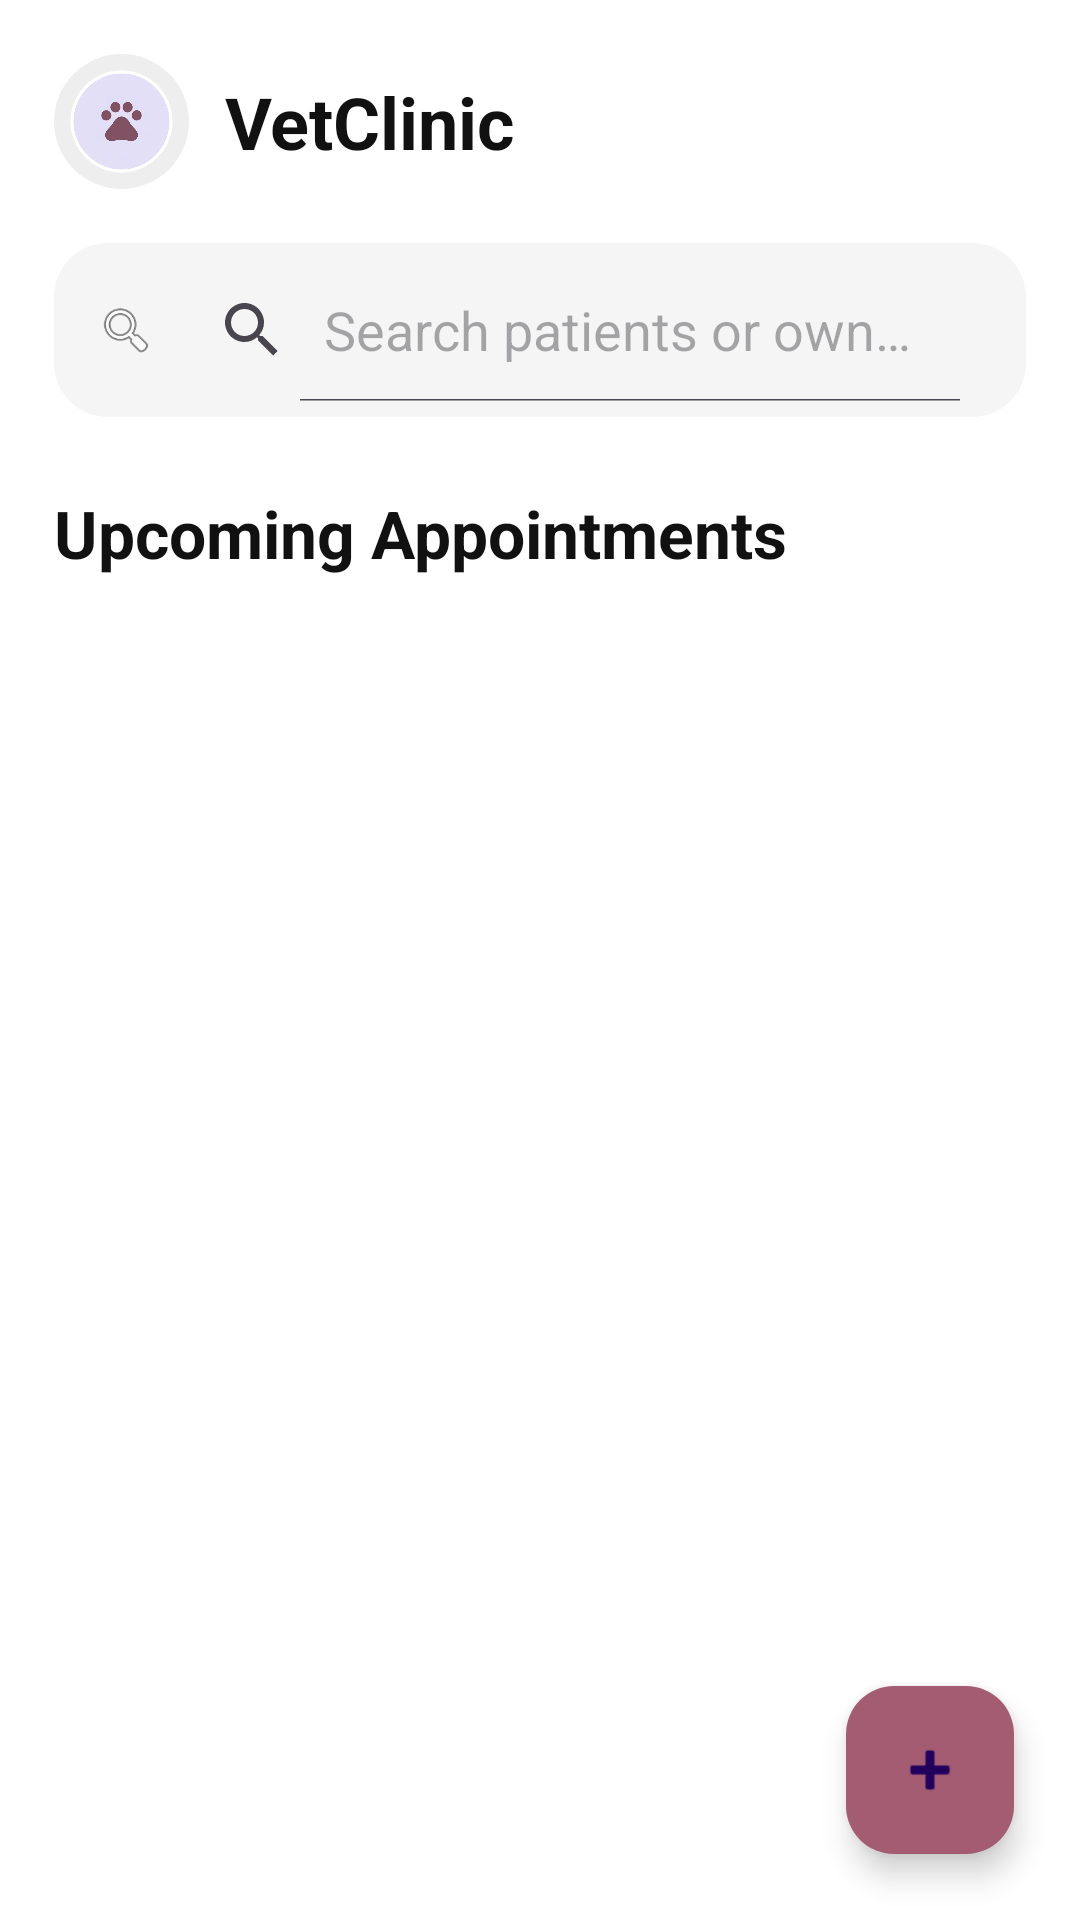

Named icons in this screenshot (1080px×1920px) and their bounding boxes, [x1,y1,x2,y2]:
add: [846,1686,1014,1854]
profile: [74,74,169,169]
